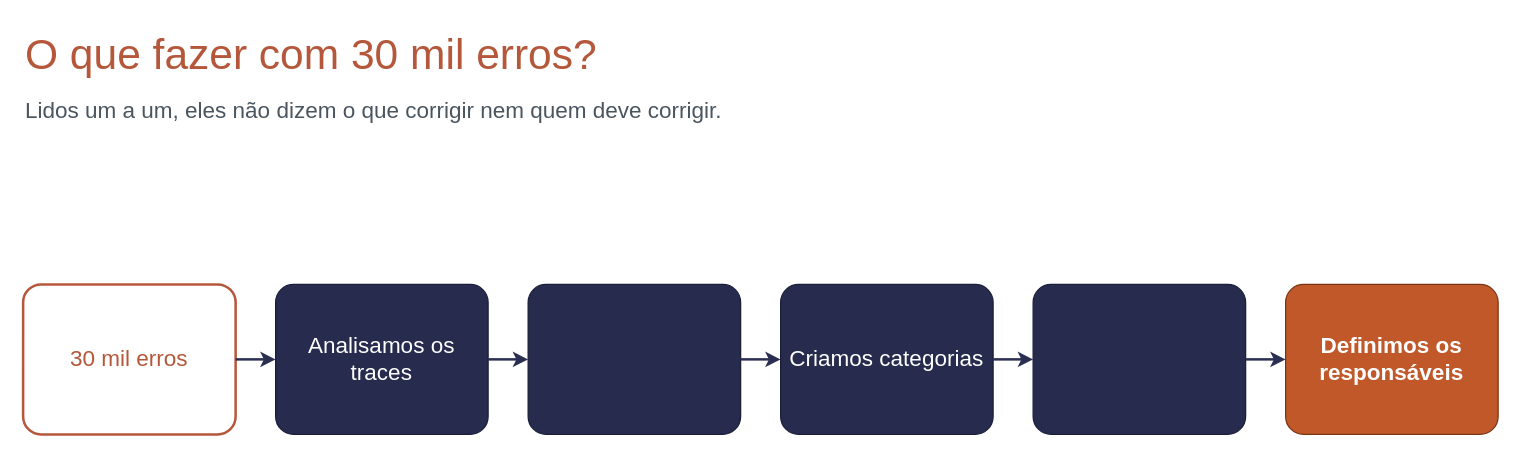
Image size: 1520x456. Some labels were removed from this diagram. The box of each missing label's shape, as (x1, y1, x2, y2) in pixels:
Agrupamos os erros: (1032, 283, 1246, 434)
Encontramos padrões: (527, 283, 741, 434)
